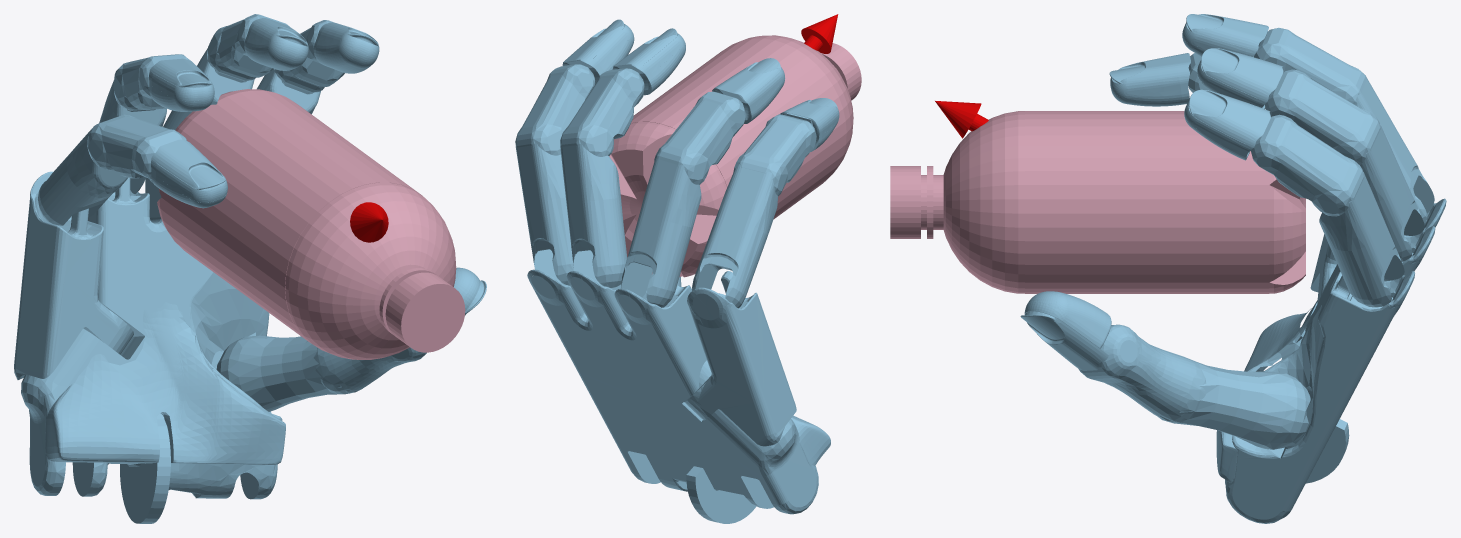
3 views of the same model, side by side, from view 1: azimuth 30°, elevation 25°; view 2: azimuth 150°, elevation 25°; view 3: azimuth 270°, elevation 25° (orthographic). The views are drawn at different scales.
Parts seen in each view (by area): view 1: world, water_bottle.stl; view 2: world, water_bottle.stl; view 3: world, water_bottle.stl.
Boxes of the visible parts, bbox=[...] form: world: bbox=[14, 14, 486, 523]; water_bottle.stl: bbox=[157, 89, 465, 359]; world: bbox=[515, 14, 839, 523]; water_bottle.stl: bbox=[609, 35, 861, 277]; world: bbox=[935, 14, 1446, 523]; water_bottle.stl: bbox=[890, 111, 1305, 293].
Bounding box in the file's own units: 0.1184 × 0.1753 × 0.1827.
